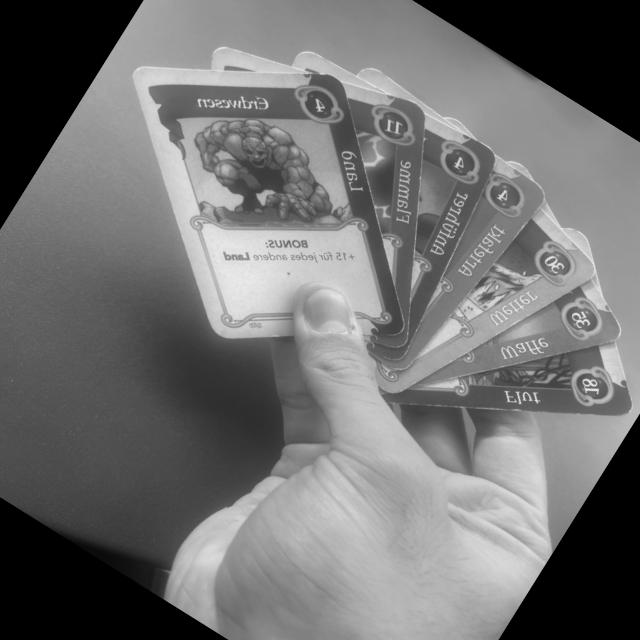Blizzard: (397, 207, 602, 394)
Earth Elemental: (126, 66, 406, 340)
Lightning: (341, 81, 424, 331)
Shield Of Keth: (404, 156, 547, 368)
Swamp: (386, 342, 634, 413)
War Dirigable: (412, 282, 626, 386)
Warlord: (408, 113, 496, 342)
